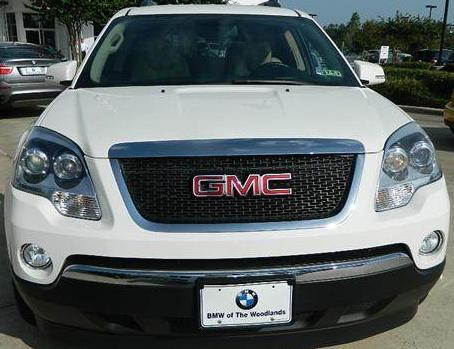front_view: (20, 133, 436, 330)
headlight: (364, 118, 440, 200)
